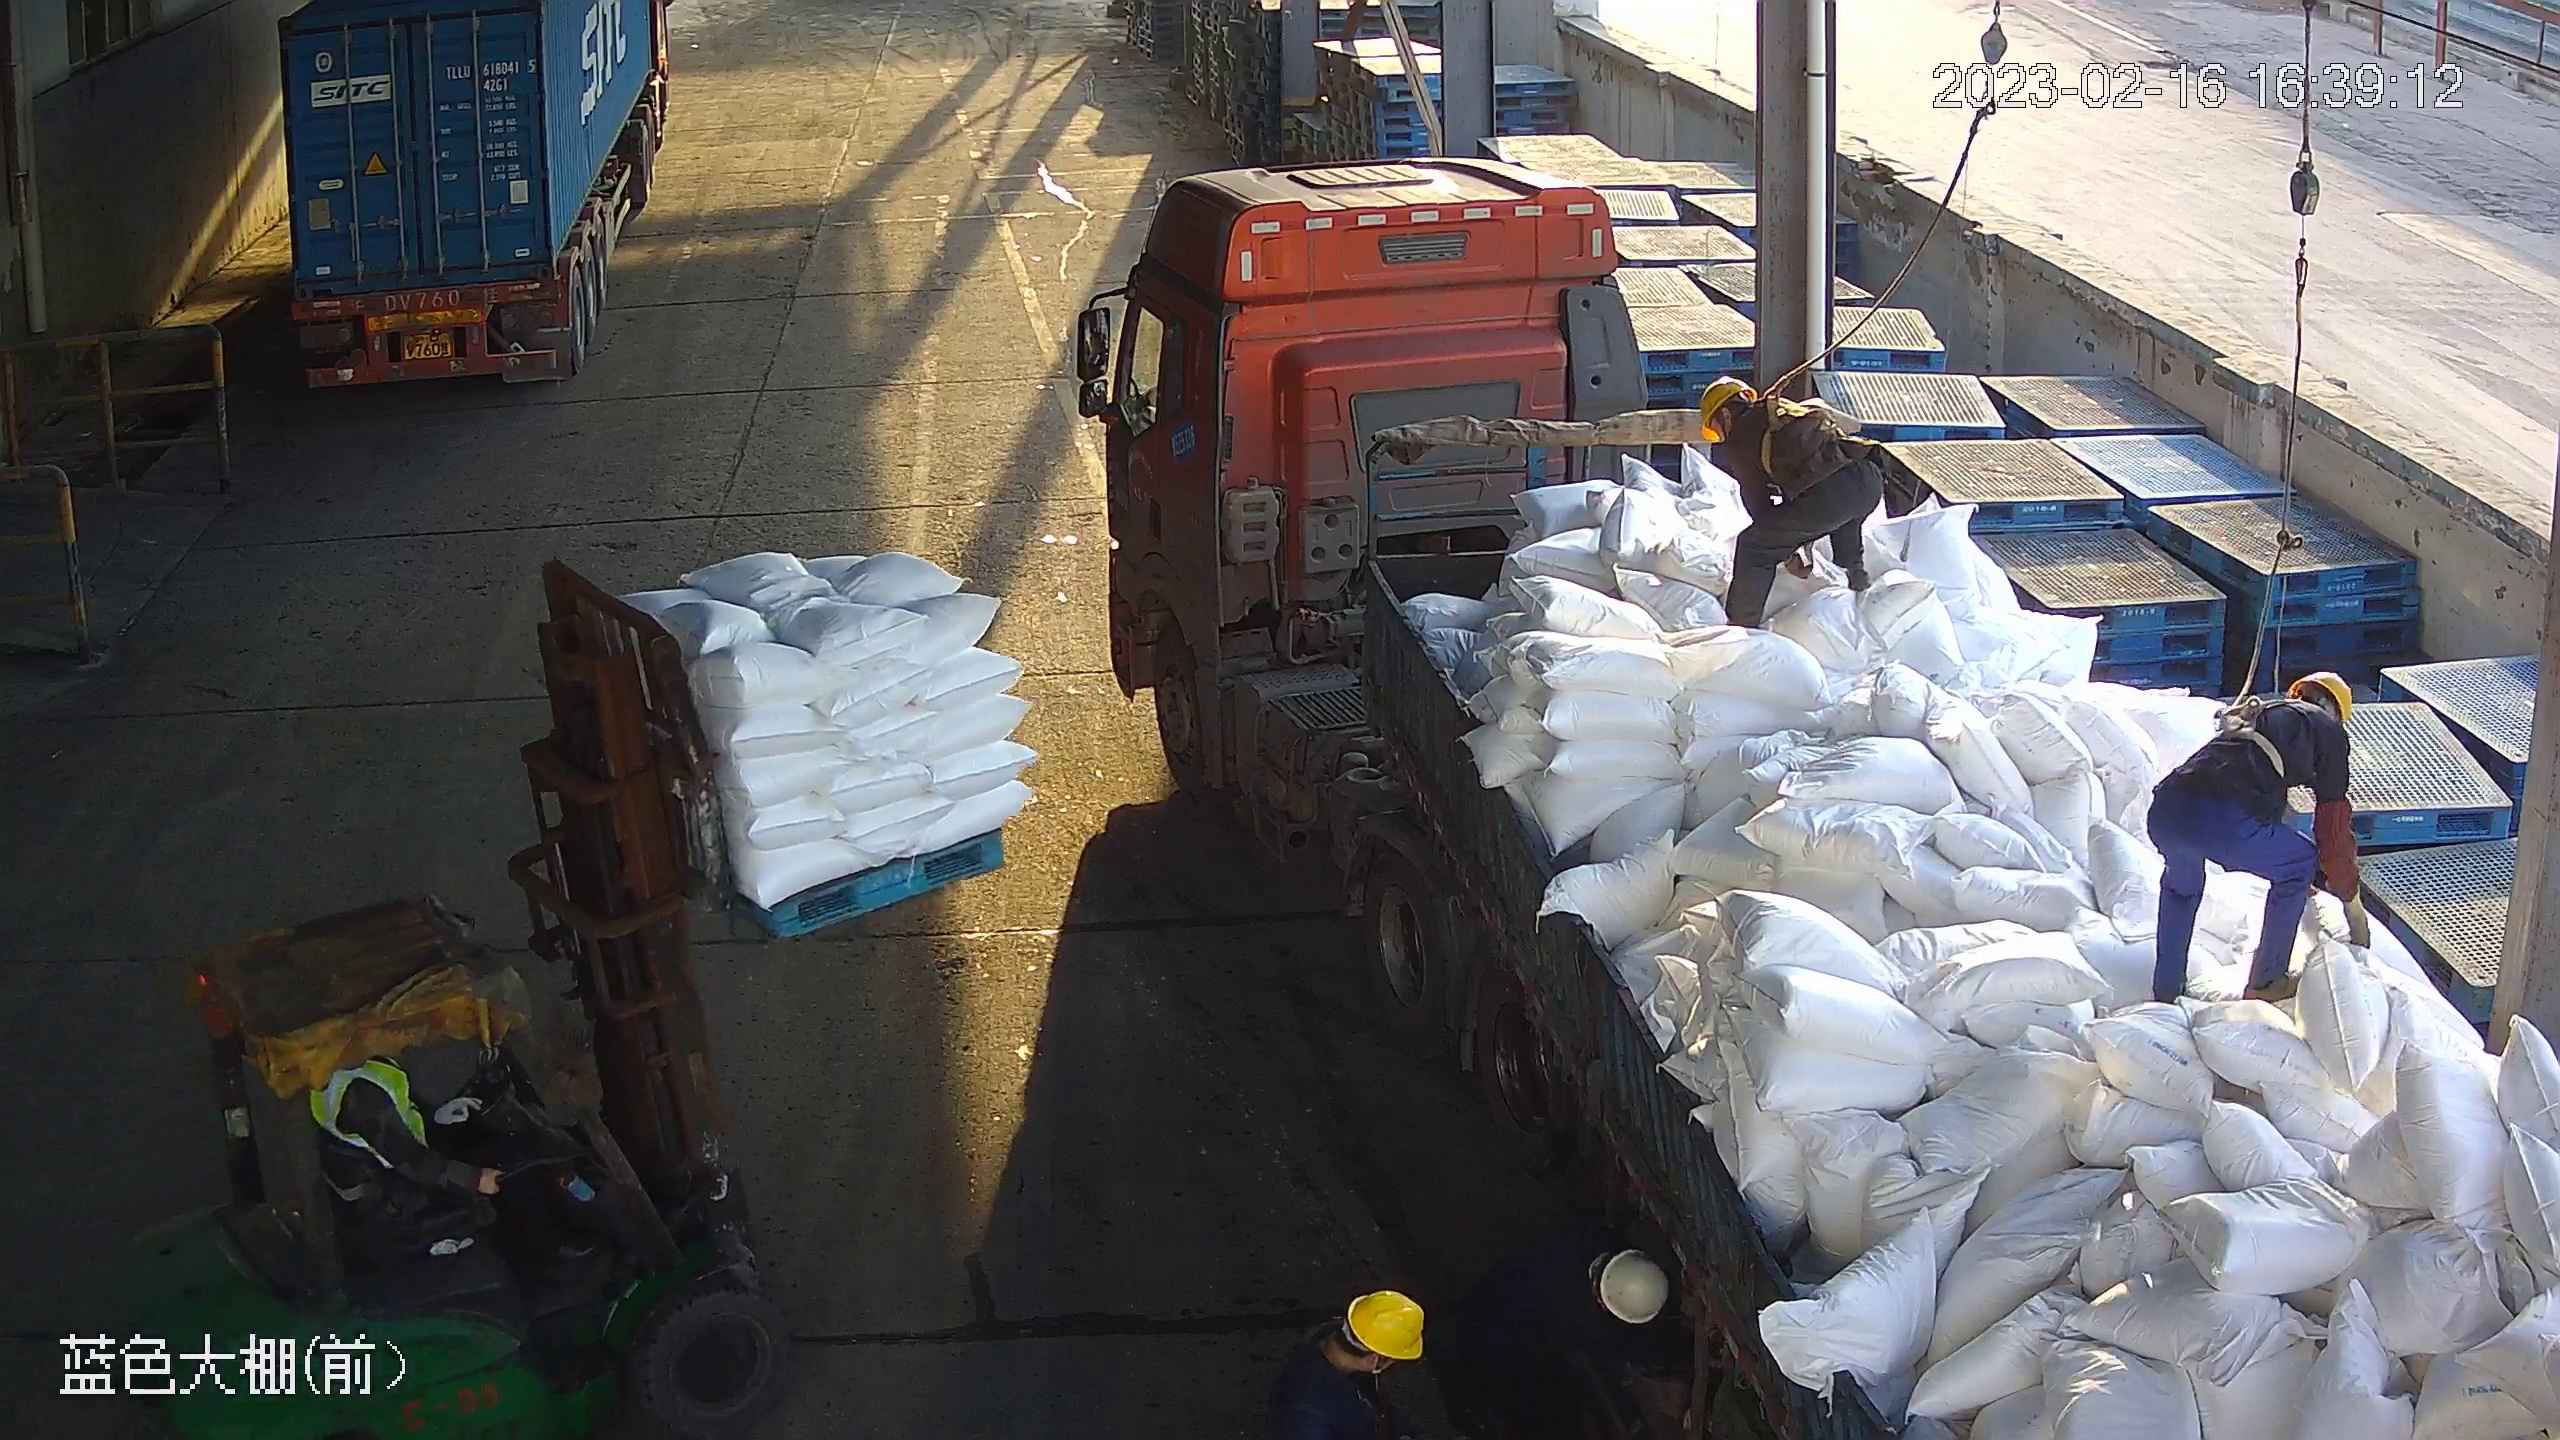belt: (2209, 695, 2291, 767), (1746, 385, 1821, 461)
head: (2248, 665, 2353, 758), (1699, 376, 1786, 458)
helmet: (1351, 1288, 1428, 1362), (1606, 1251, 1665, 1320), (1700, 374, 1751, 432), (2295, 674, 2349, 718)
people: (2148, 662, 2374, 1009), (1695, 376, 1888, 630), (307, 1057, 544, 1265)
truck: (1065, 148, 2560, 1440), (223, 6, 681, 395)
